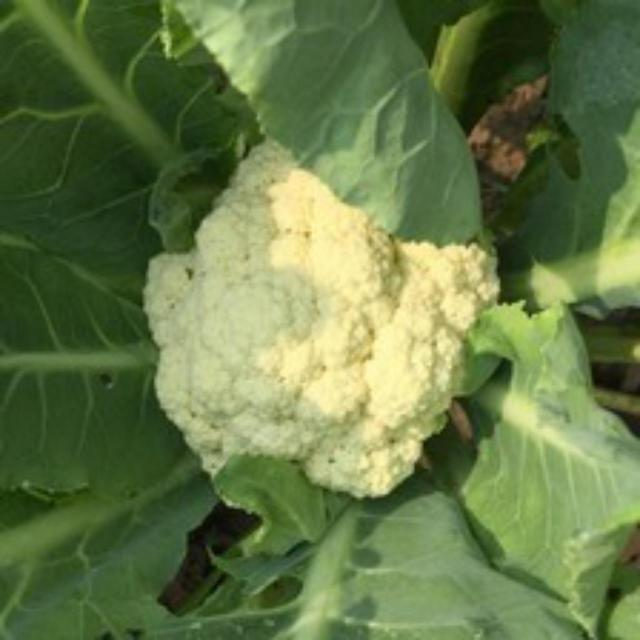cauliflower: (131, 128, 502, 514)
